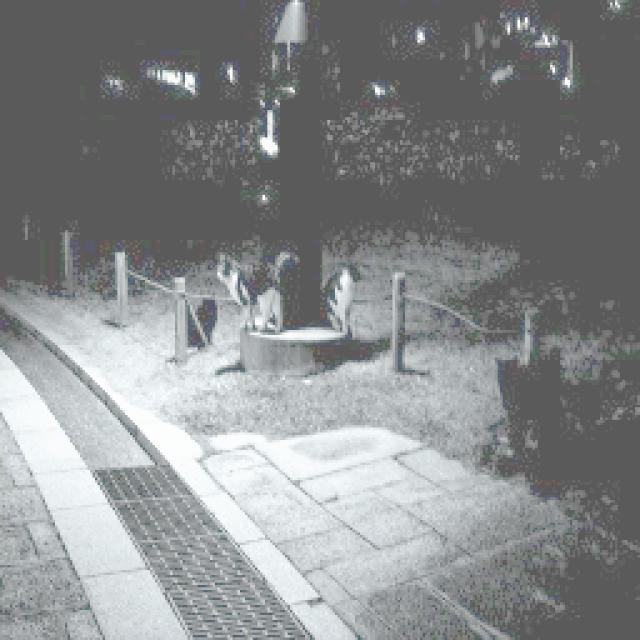cat: (210, 232, 288, 340), (313, 252, 364, 338)
